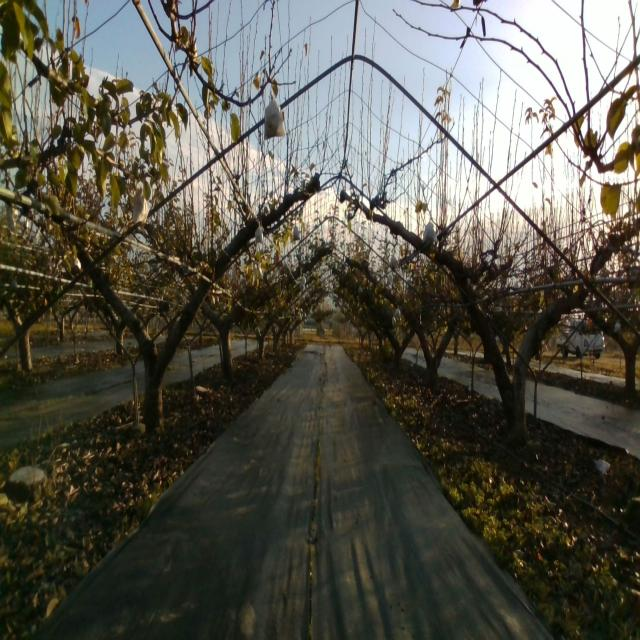pearbags: (263, 90, 285, 140), (131, 195, 150, 225)
